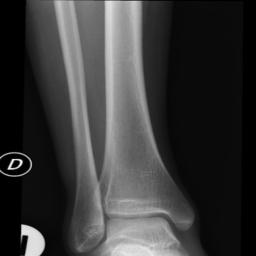cancer: (69, 201, 105, 254)
